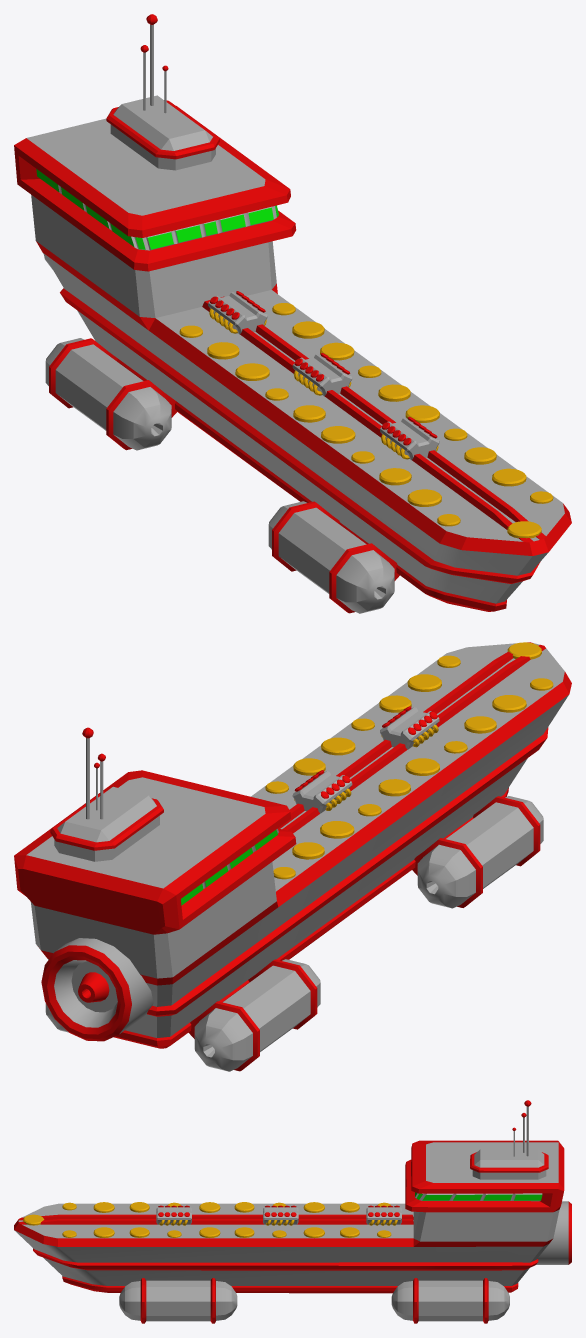
The model's file is Enemy_Battleship_Base.fbx.
3 views of the same model, one above another, from view 1: azimuth 30°, elevation 25°; view 2: azimuth 150°, elevation 25°; view 3: azimuth 270°, elevation 25° (orthographic). The views are drawn at different scales.
Parts seen in each view (by area): view 1: Enemy_Battleship_Base; view 2: Enemy_Battleship_Base; view 3: Enemy_Battleship_Base.
Part boxes in pixels (left/top/right/bottom): Enemy_Battleship_Base: left=14, top=14, right=571, bottom=613; Enemy_Battleship_Base: left=14, top=642, right=571, bottom=1071; Enemy_Battleship_Base: left=14, top=1100, right=571, bottom=1323.
Size of the model in its own units: 22.9 by 35.46 by 86.72.
